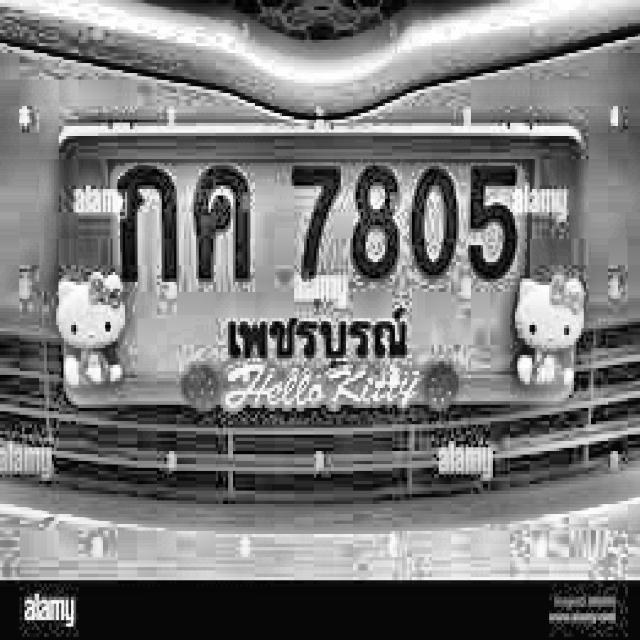license-plate: (41, 88, 615, 458)
